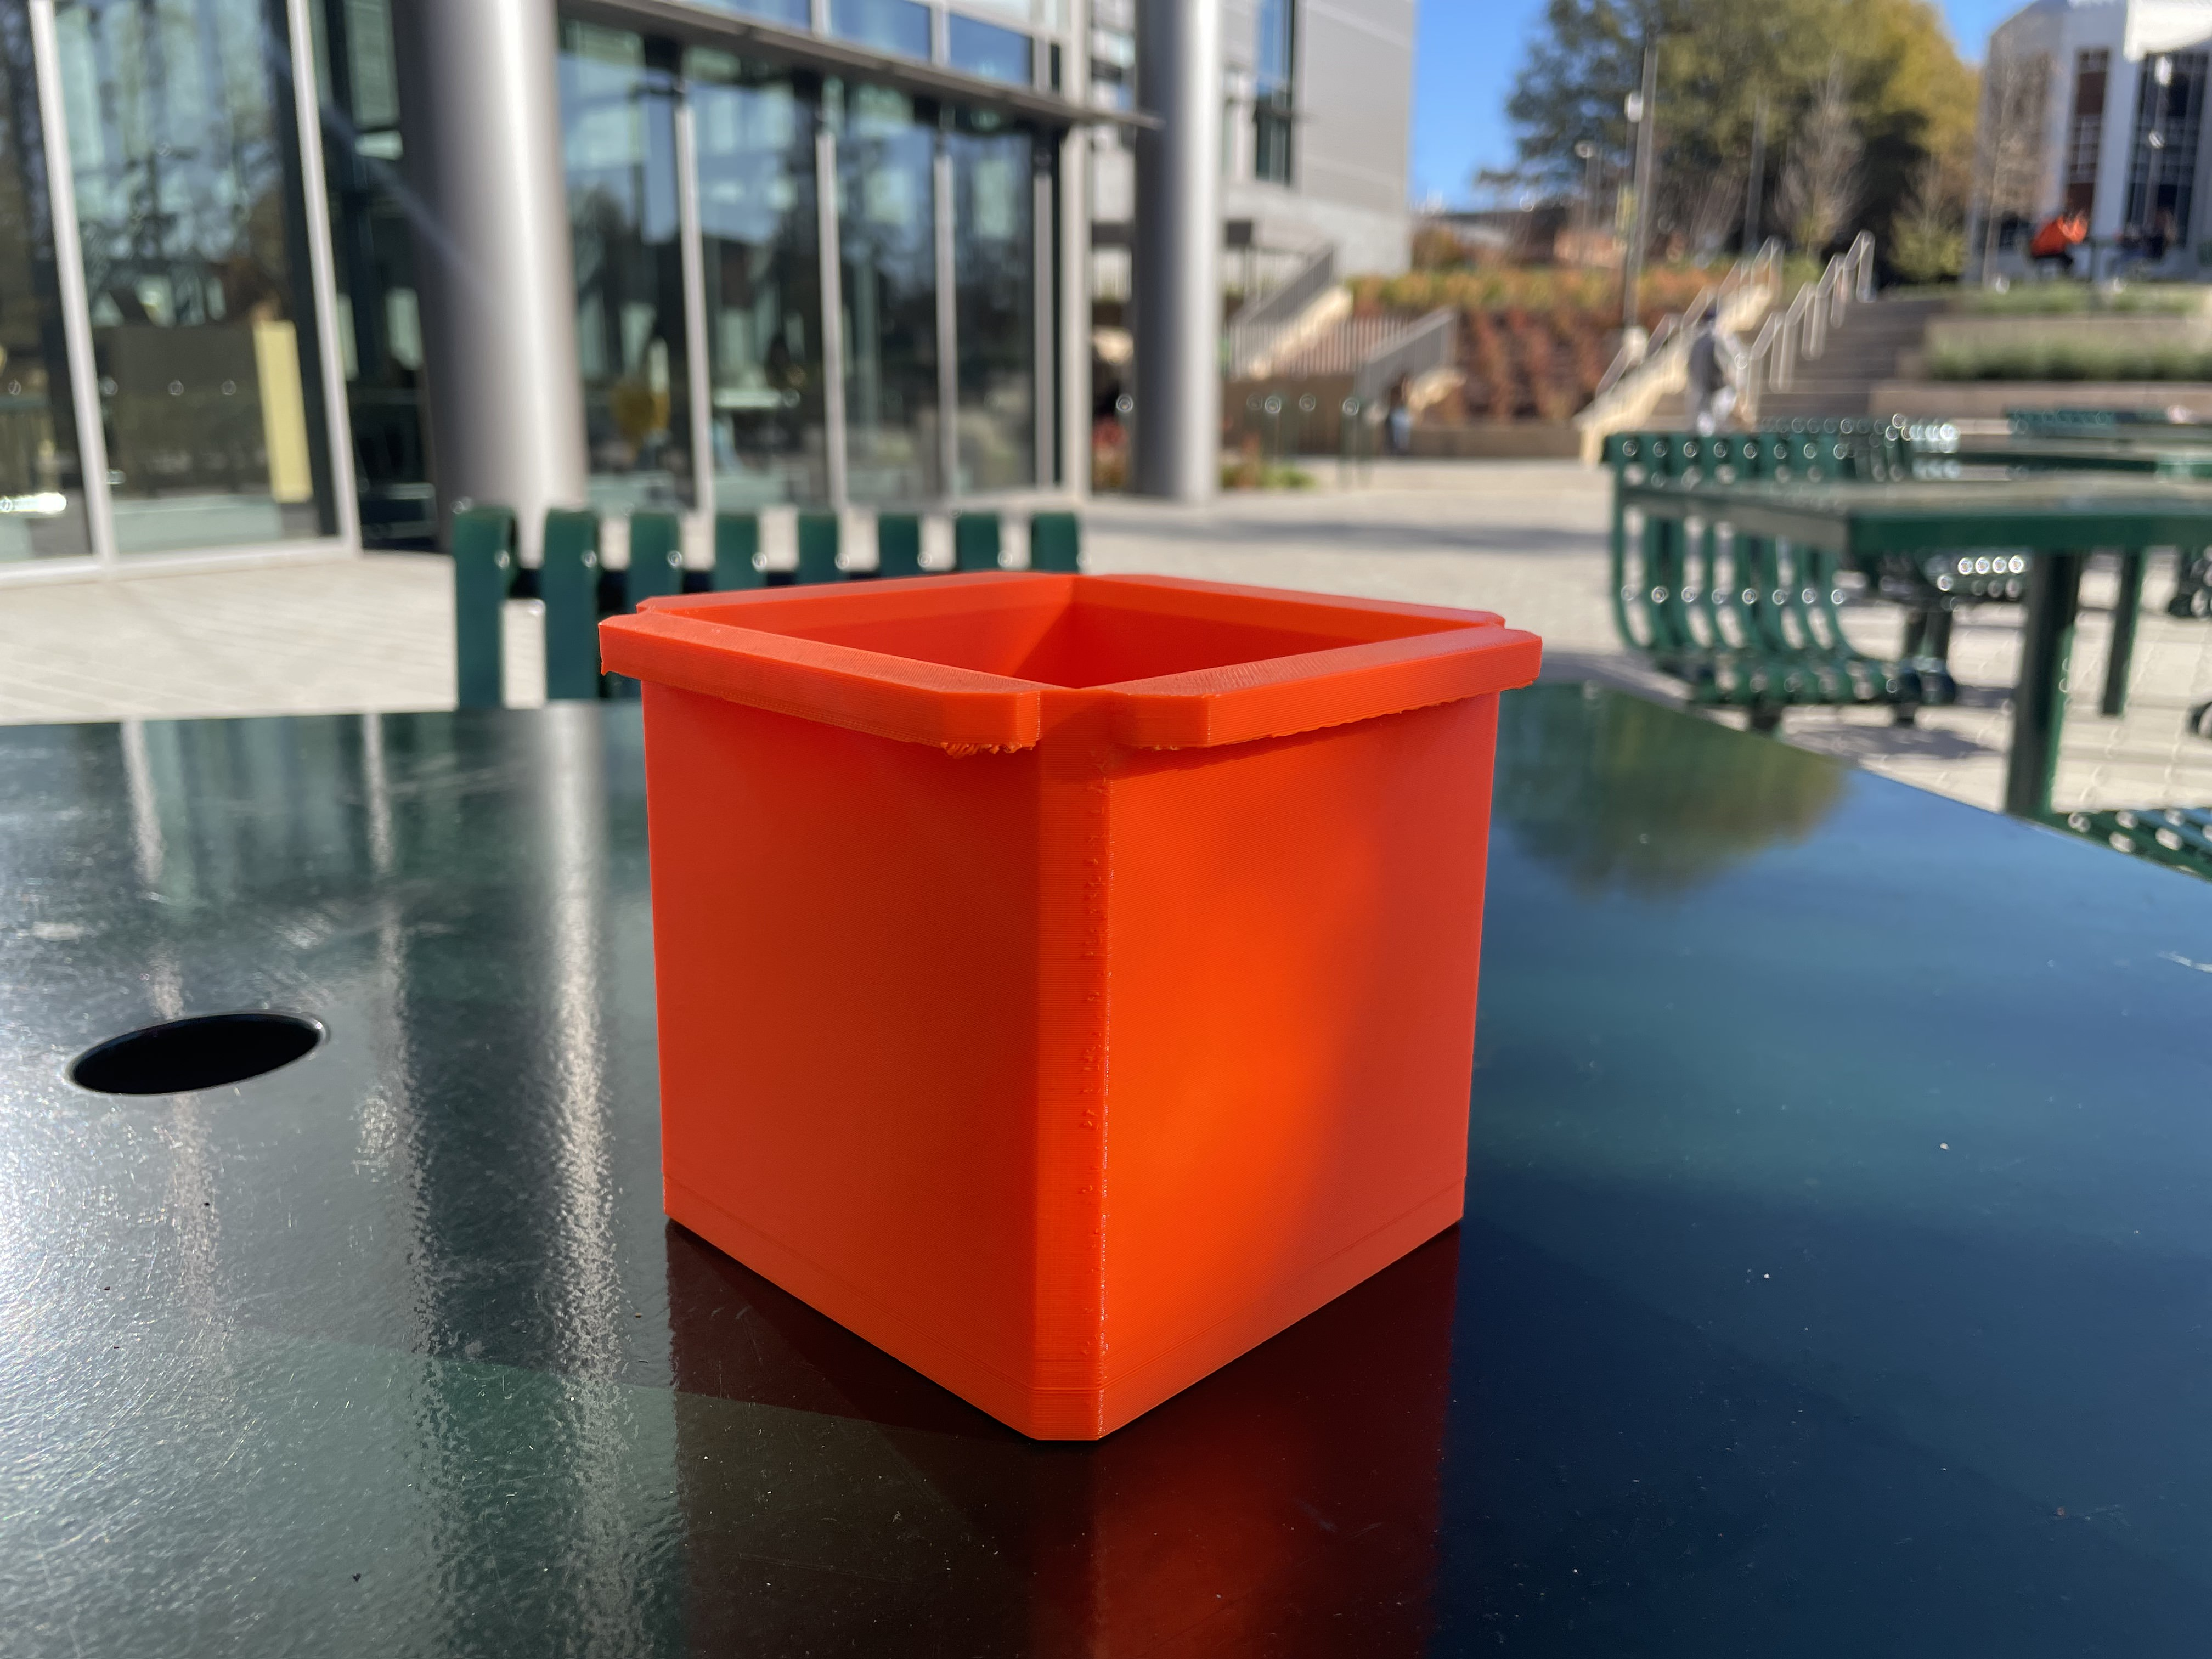payload1: (570, 556, 1559, 1459)
